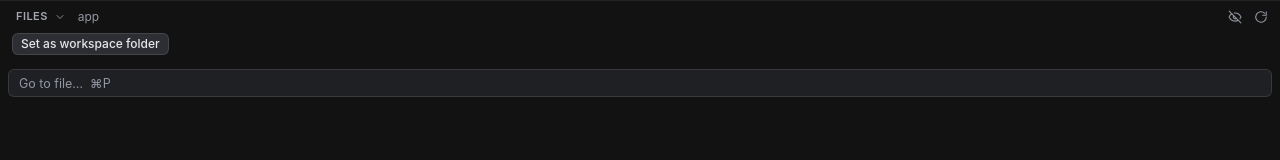
Test case: FilesPanel › keeps the root it opened with; setting a folder re-resolves it
The image size is (1280, 160).
expect the text titled "/r" is shown: met, box [78,9,99,25]
# Saving the same path as the workspace folder keeps the root.
Step 1. Click the button "Set as workspace folder" → (90,44), box [12,33,169,55]
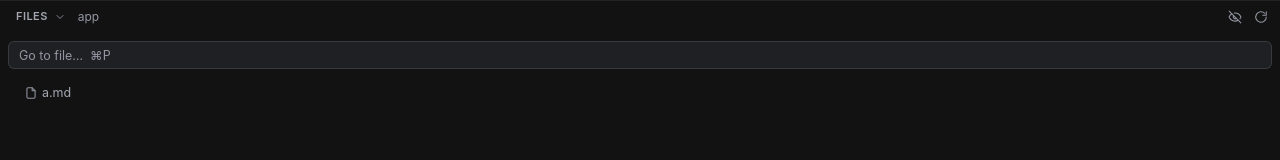
expect the text titled "/new" is shown: met, box [78,9,99,25]
expect the button "Set as workspace folder" is gone: met
